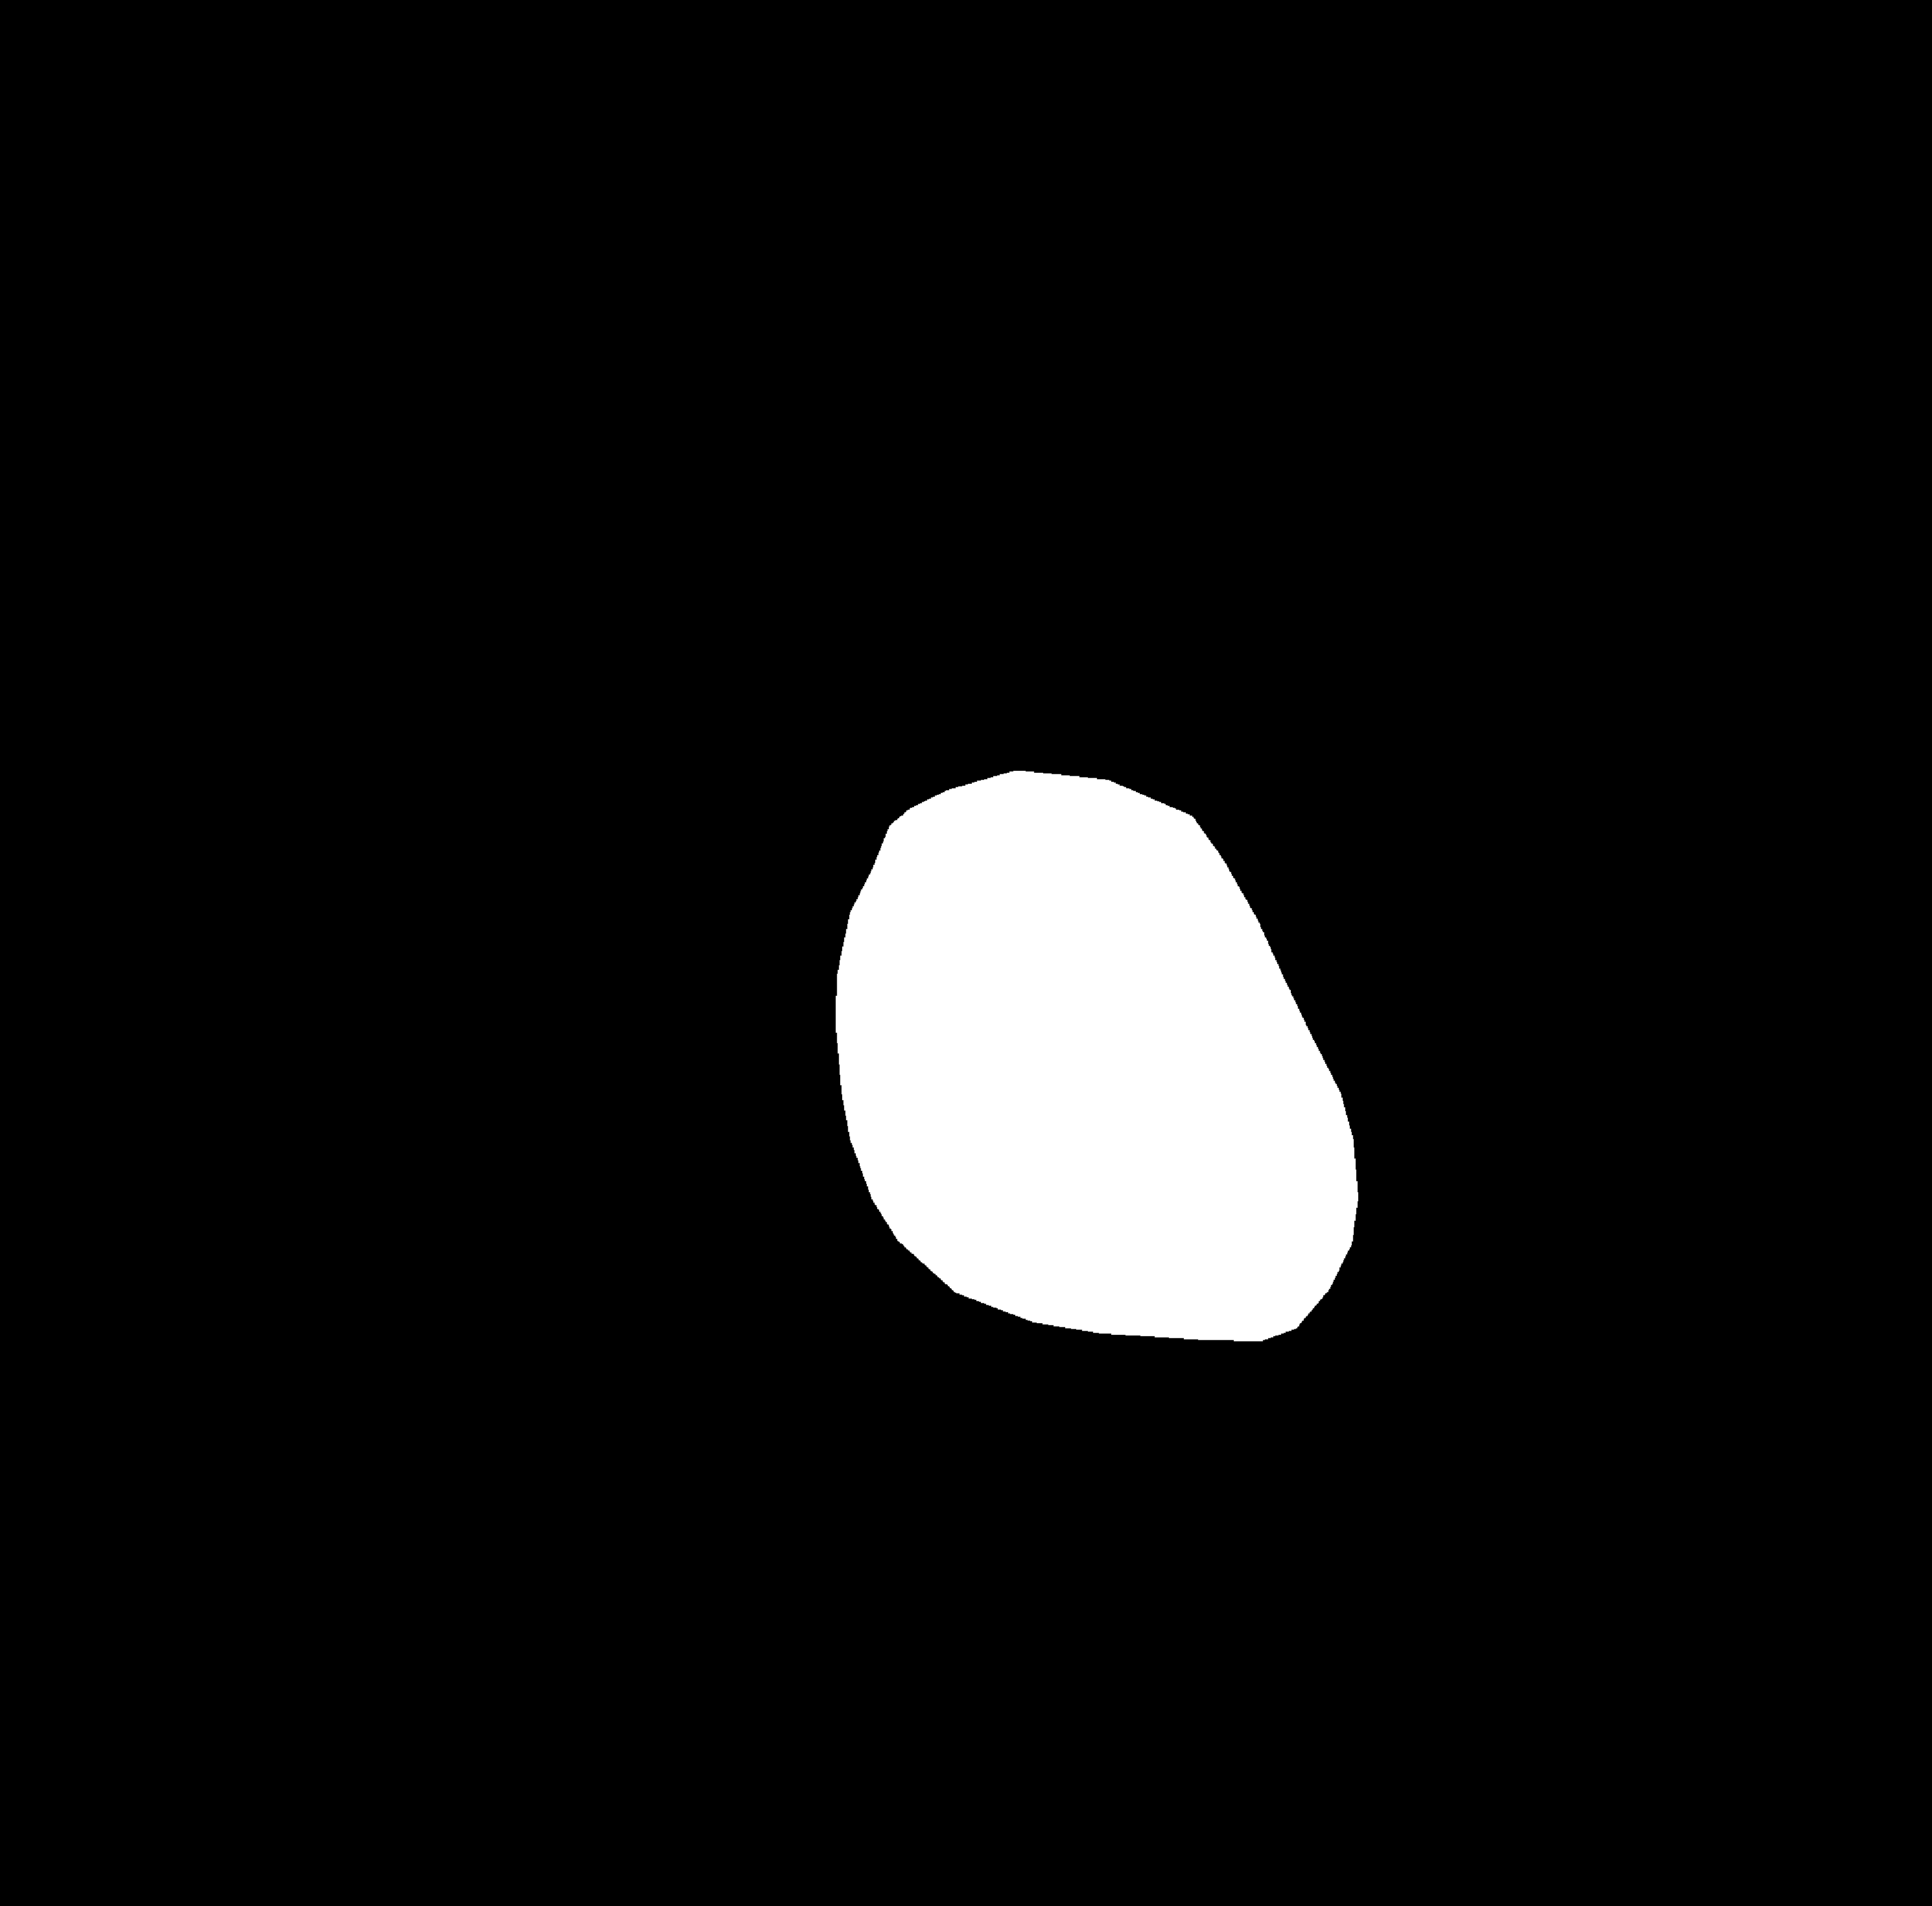heart: (832, 801, 1358, 1342)
left_lung: (396, 133, 969, 1382)
right_lung: (1103, 105, 1649, 1452)
